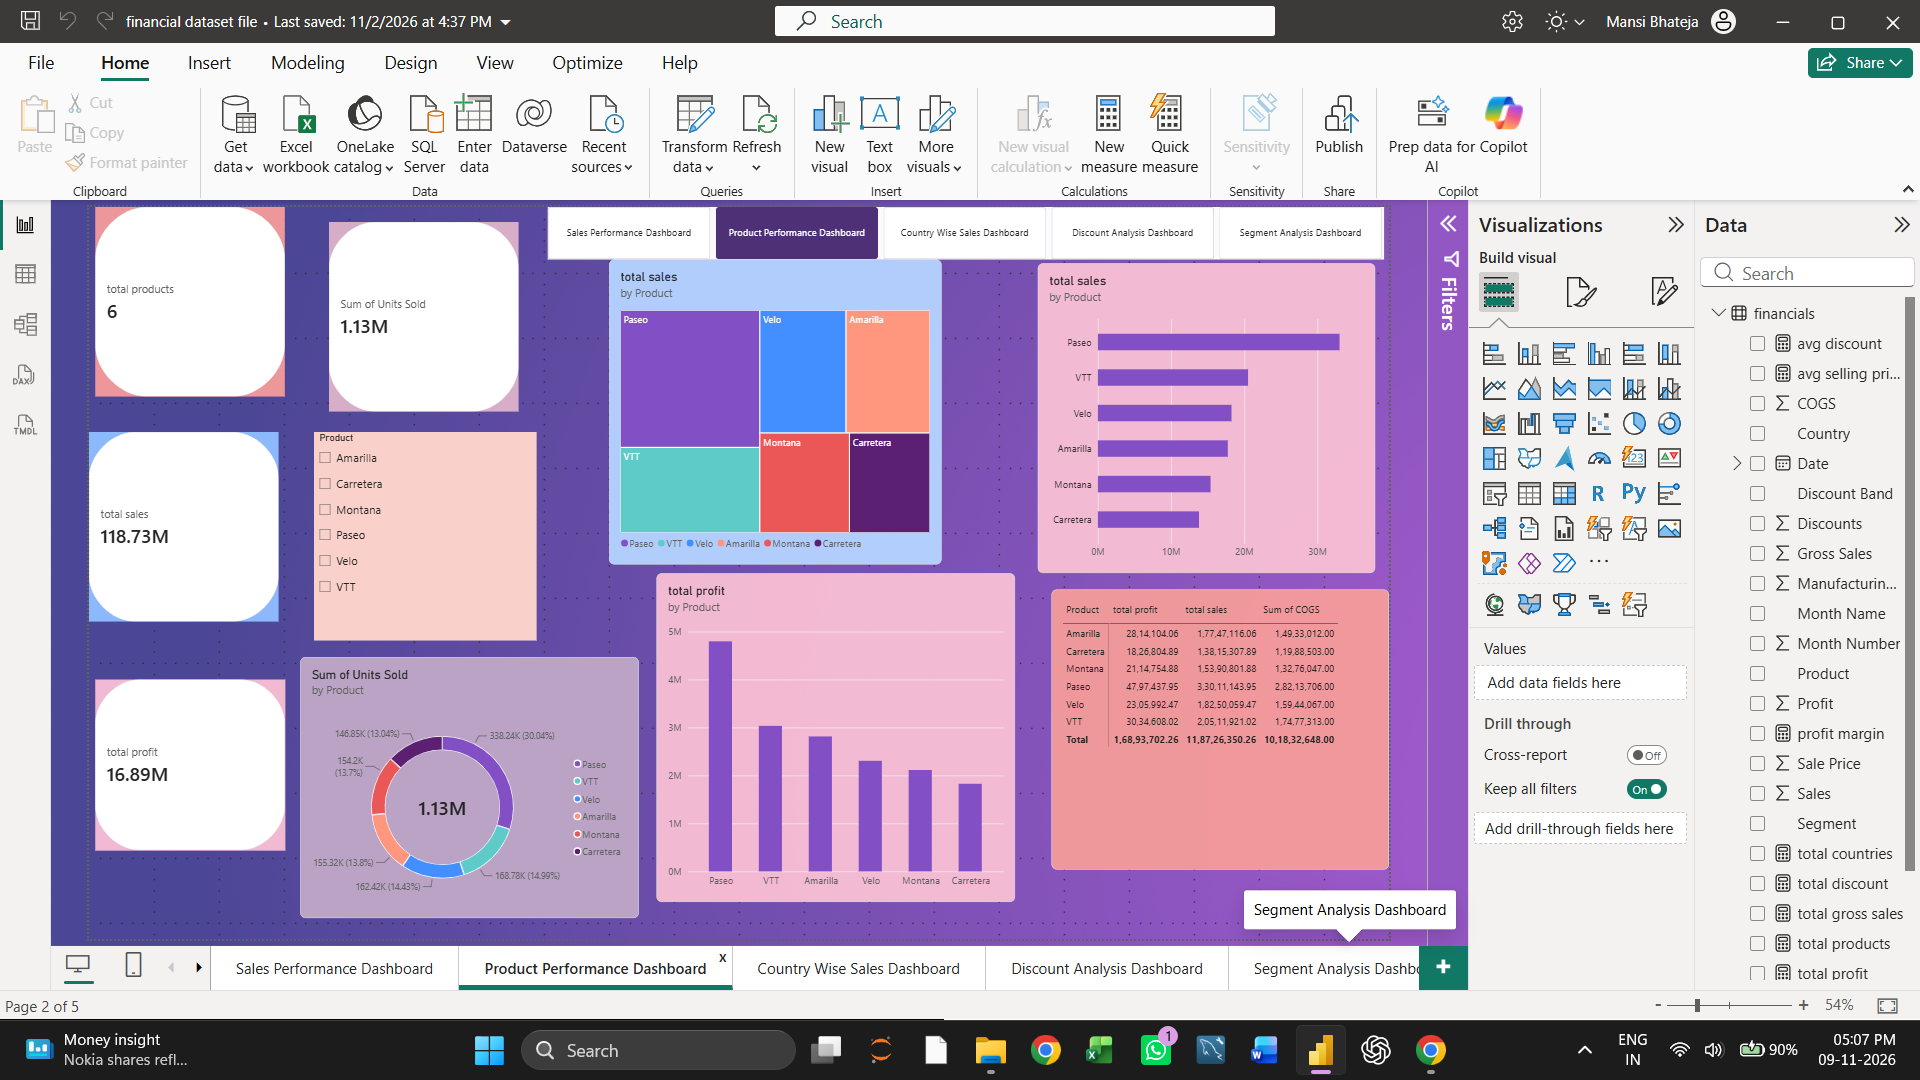

What the dashboard file says about the page in this screenshot:
{"tool":"powerbi","page":{"name":"Product Performance Dashboard","canvas":[1920,1080],"ordinal":1},"visuals":[{"type":"cardVisual","fields":{"Data":["financials.total products"]},"box":[10,0,280,280],"z":0},{"type":"cardVisual","fields":{"Data":["financials.total sales"]},"box":[0,332.3,280,280],"z":1},{"type":"slicer","fields":{"Values":["financials.Product"]},"box":[332.3,332.3,328.6,308.3],"z":2},{"type":"cardVisual","fields":{"Data":["financials.total profit"]},"box":[9.2,697.8,280.6,252.9],"z":3},{"type":"cardVisual","fields":{"Data":["Sum(financials.Units Sold)"]},"box":[354.5,22.2,280,280],"z":4},{"type":"clusteredBarChart","fields":{"Category":["financials.Product"],"Y":["financials.total sales"]},"box":[1401.2,83.1,498.5,457.8],"z":5},{"type":"clusteredColumnChart","fields":{"Category":["financials.Product"],"Y":["financials.total profit"]},"box":[838.2,540.9,529.8,485.5],"z":6},{"type":"donutChart","fields":{"Category":["financials.Product"],"Y":["Sum(financials.Units Sold)"]},"box":[312,664.6,500.3,385.8],"z":7},{"type":"treemap","fields":{"Group":["financials.Product"],"Values":["financials.total sales"]},"box":[768,77.5,491.1,450.5],"z":8},{"type":"pivotTable","fields":{"Rows":["financials.Product"],"Values":["financials.total profit","financials.total sales","Sum(financials.COGS)"]},"box":[1421.5,564.9,498.5,413.5],"z":9},{"type":"pageNavigator","box":[677.5,0,1235.1,77.5],"z":10}]}

Visuals, with their boxes on the page's 1920x1080 design canvas (x1, y1, x2, y2). These are canvas units, not pixel positions in the 1920x1080 screenshot, which may show the page scaled, cropped or inside an application window:
cardVisual - financials.total products: l=10, t=0, r=290, b=280
cardVisual - financials.total sales: l=0, t=332, r=280, b=612
slicer - financials.Product: l=332, t=332, r=661, b=641
cardVisual - financials.total profit: l=9, t=698, r=290, b=951
cardVisual - Sum(financials.Units Sold): l=354, t=22, r=634, b=302
clusteredBarChart - financials.Product x financials.total sales: l=1401, t=83, r=1900, b=541
clusteredColumnChart - financials.Product x financials.total profit: l=838, t=541, r=1368, b=1026
donutChart - financials.Product x Sum(financials.Units Sold): l=312, t=665, r=812, b=1050
treemap - financials.Product x financials.total sales: l=768, t=78, r=1259, b=528
pivotTable - financials.Product x financials.total profit: l=1422, t=565, r=1920, b=978
pageNavigator: l=678, t=0, r=1913, b=78
